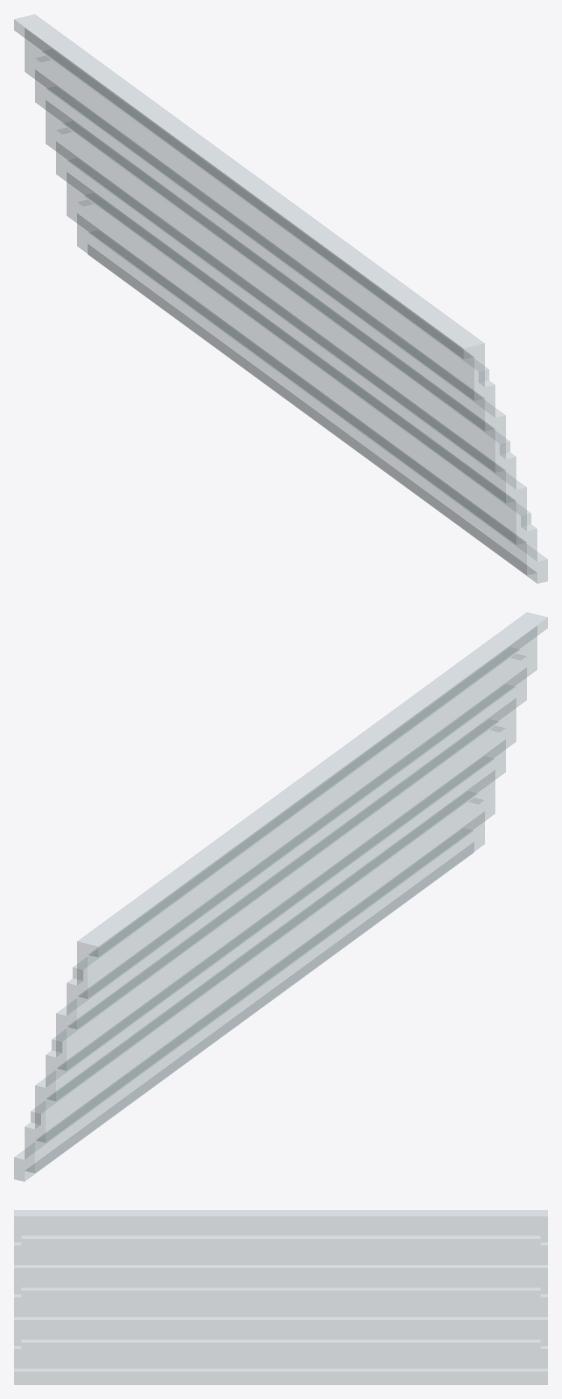
Rendered from refuse_truck_windscreen.glb.
The picture shows the model from 3 angles, top to bottom: view 1: azimuth 30°, elevation 25°; view 2: azimuth 150°, elevation 25°; view 3: azimuth 270°, elevation 25°; orthographic projection. The views are drawn at different scales.
Visible parts, largest first — view 1: body:compound; view 2: body:compound; view 3: body:compound.
Boxes of the visible parts, box(x1,y1,x2,y2) form: body:compound: box(14, 14, 547, 583); body:compound: box(14, 612, 547, 1181); body:compound: box(14, 1210, 547, 1384).
Size of the model in its own units: 0.25 by 0.7188 by 2.31.
